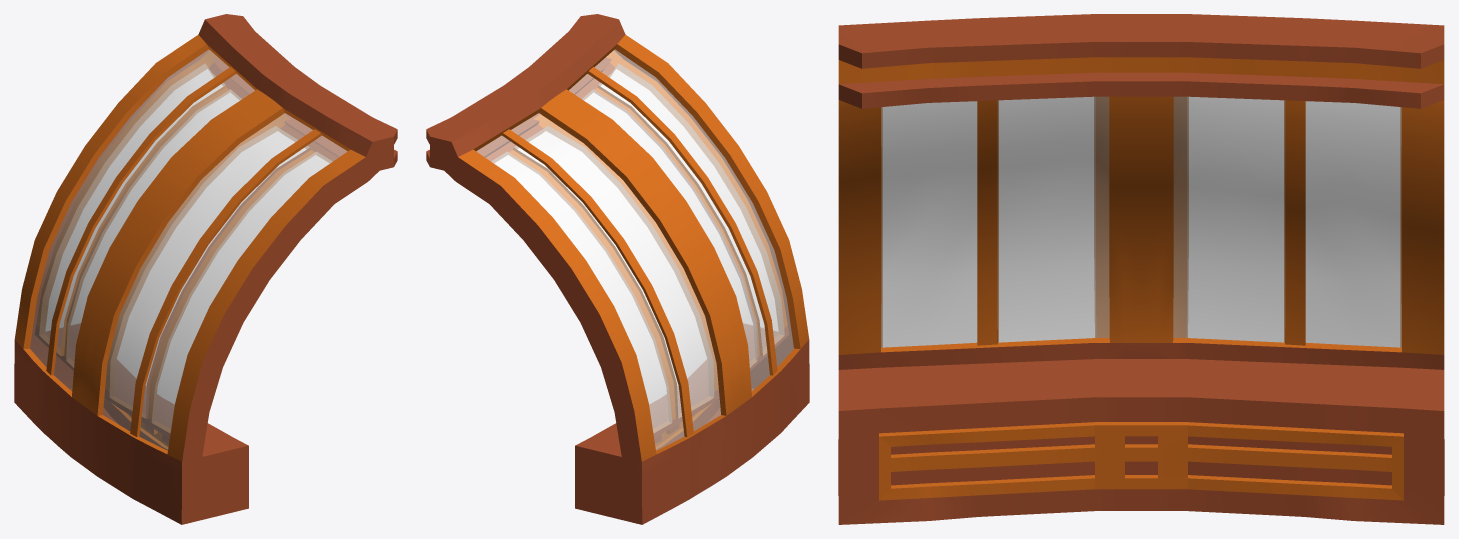
Rendered from LP_Window.fbx.
3 renders of one model, left to right at view 1: azimuth 30°, elevation 25°; view 2: azimuth 150°, elevation 25°; view 3: azimuth 270°, elevation 25°, orthographic. The views are drawn at different scales.
Parts seen in each view (by area): view 1: Window_Save_005; view 2: Window_Save_005; view 3: Window_Save_005.
Boxes of the visible parts, x1=… form: Window_Save_005: x1=14, y1=14, x2=397, y2=524; Window_Save_005: x1=426, y1=14, x2=809, y2=524; Window_Save_005: x1=838, y1=14, x2=1444, y2=524.
Size of the model in its own units: 407 by 554 by 500.
